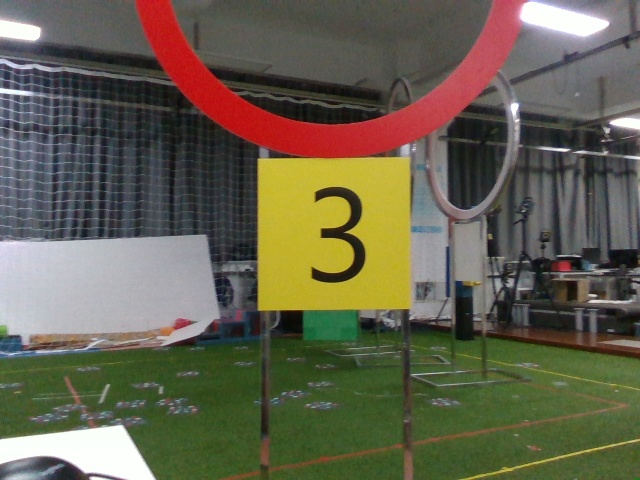target: (261, 164, 412, 310)
